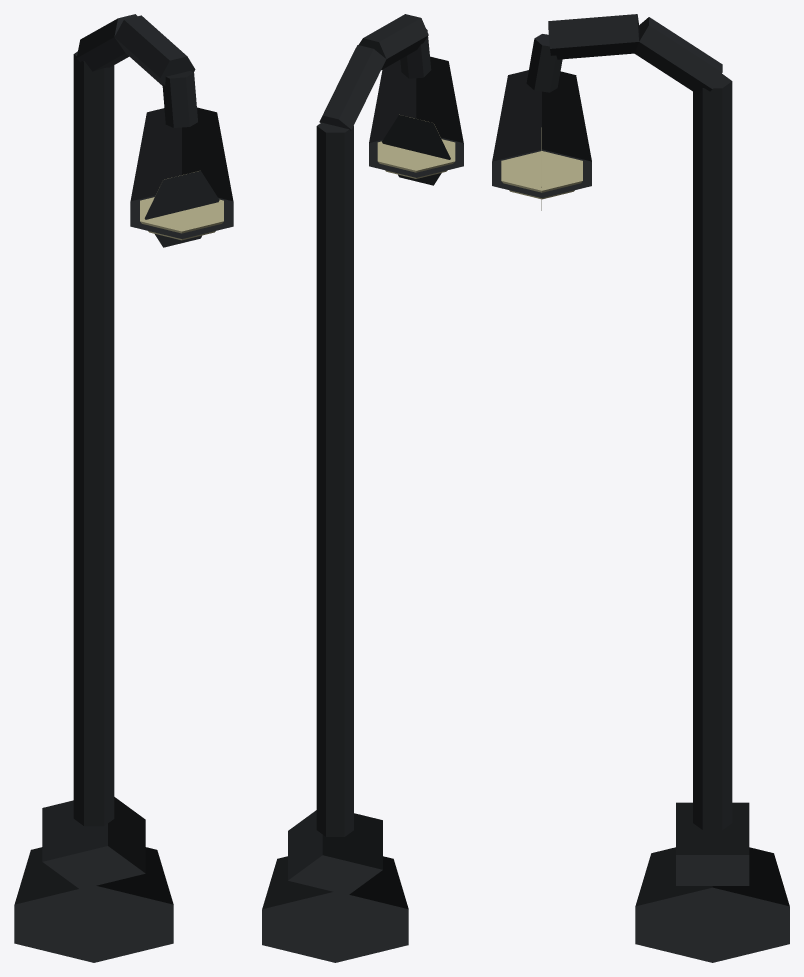
Rendered from psx_downturning_lamppost.obj.
3 views of the same model, side by side, from view 1: azimuth 30°, elevation 25°; view 2: azimuth 150°, elevation 25°; view 3: azimuth 270°, elevation 25° (orthographic). The views are drawn at different scales.
Parts seen in each view (by area): view 1: PSX_Downturning_Lamppost; view 2: PSX_Downturning_Lamppost; view 3: PSX_Downturning_Lamppost.
Part boxes in pixels (<box>): PSX_Downturning_Lamppost: <box>14,14,233,962</box>; PSX_Downturning_Lamppost: <box>262,14,463,962</box>; PSX_Downturning_Lamppost: <box>492,14,789,962</box>.
Size of the model in its own units: 0.68 by 3.81 by 1.13.
